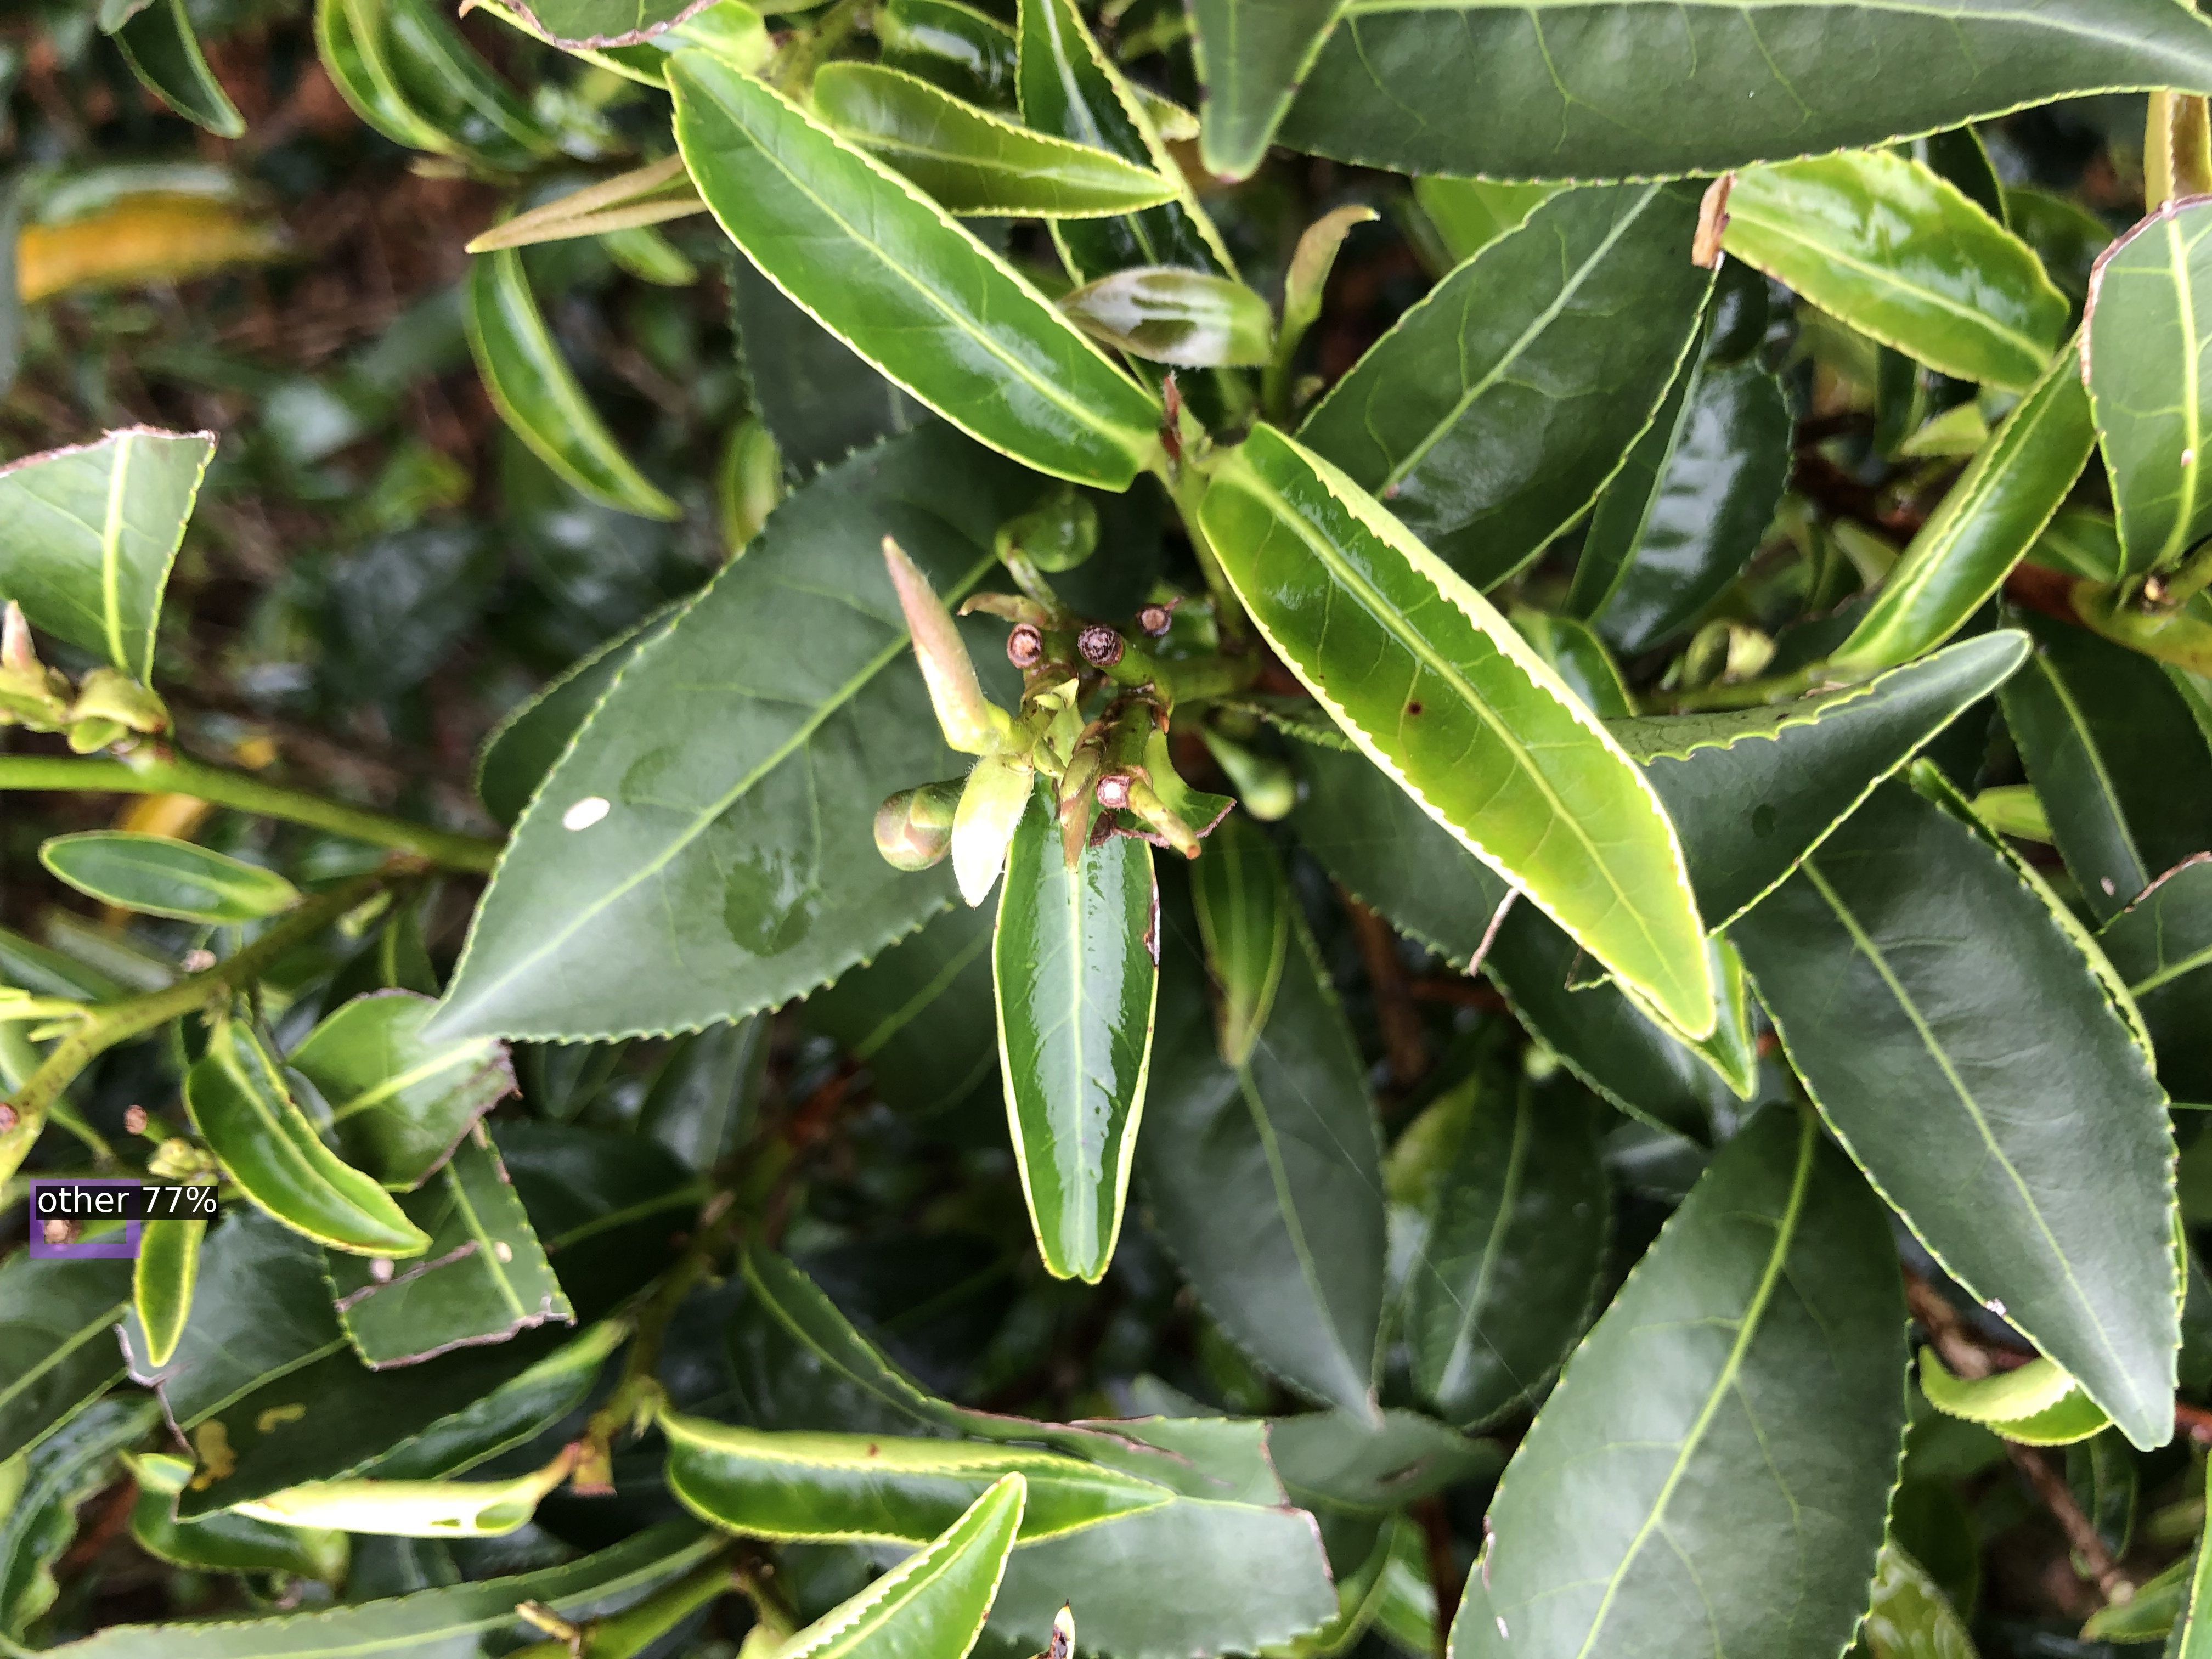other: (37, 1185, 132, 1251)
